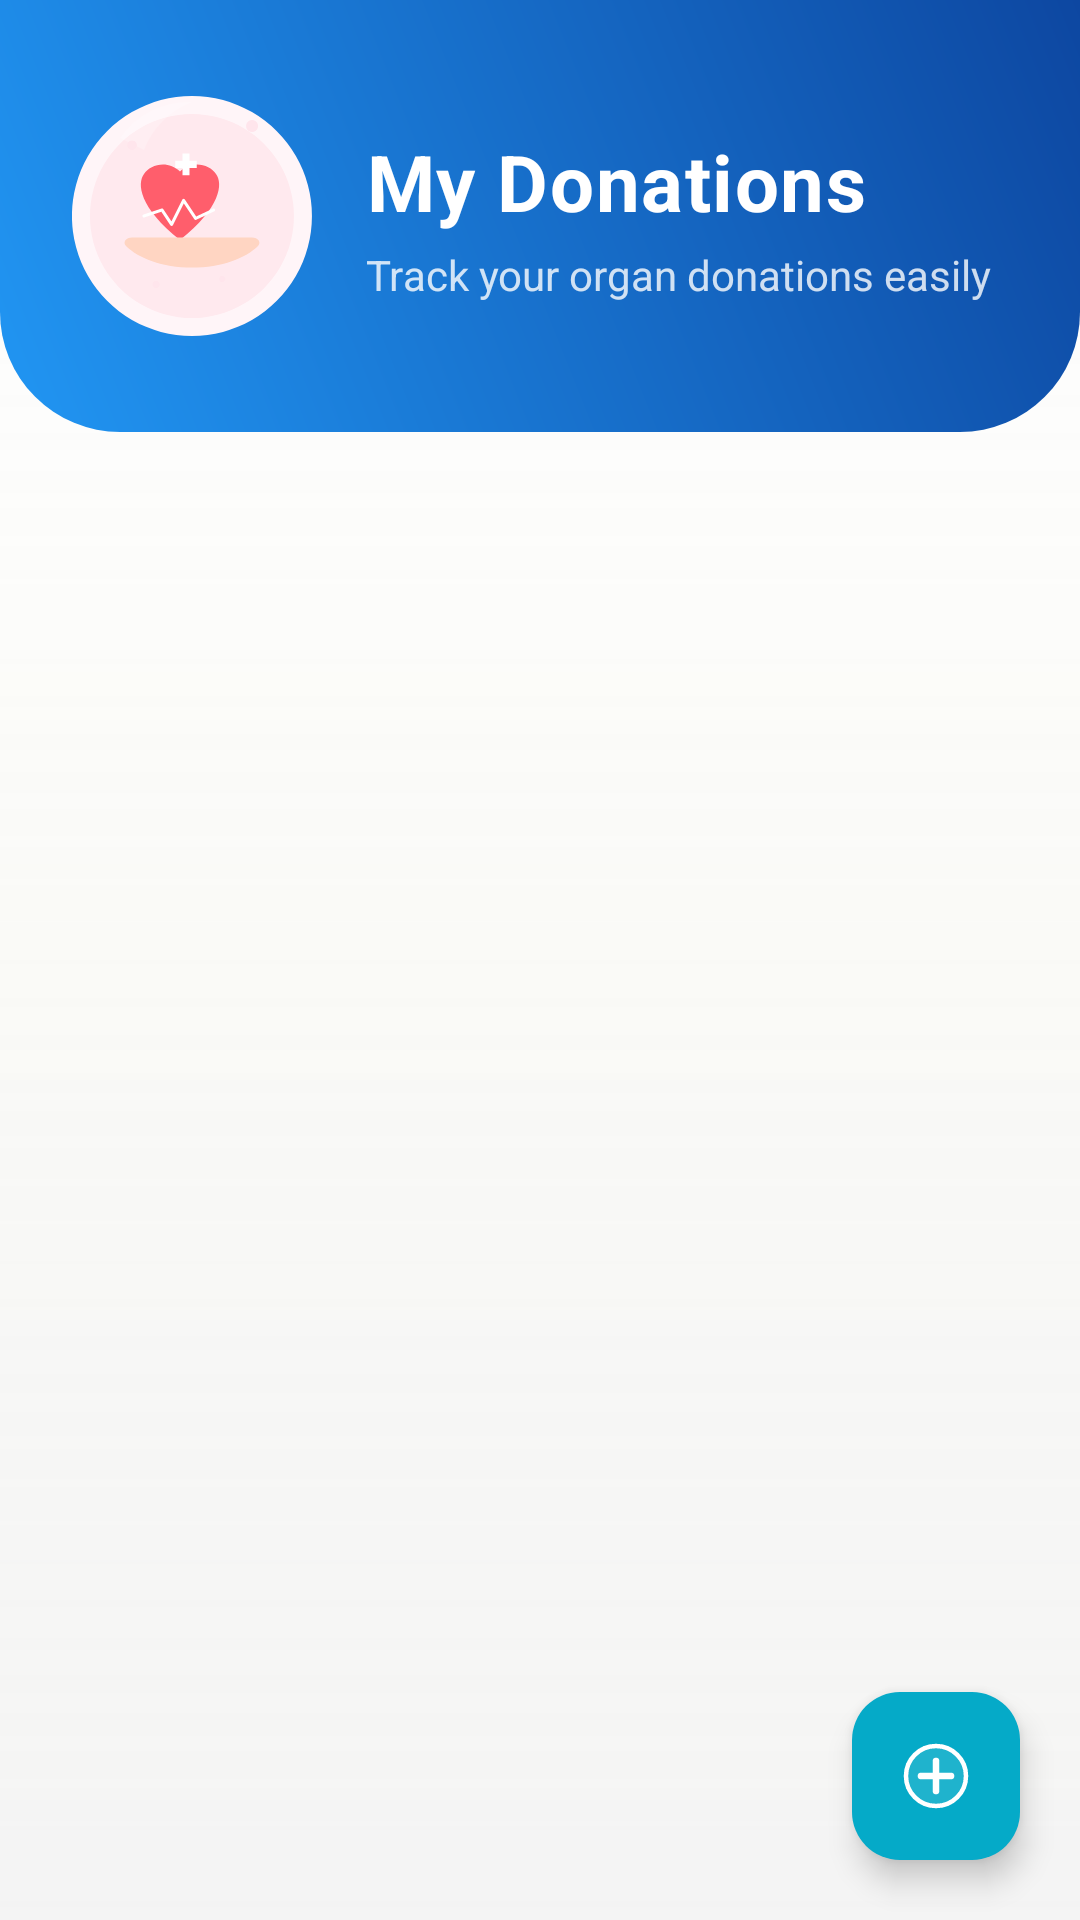

Named icons in this screenshot (1080px×1920px) and their bounding boxes, (x1, y1, x2, y2):
Add Donation: (852, 1692, 1020, 1860)
